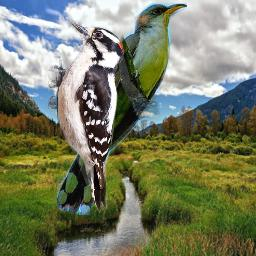Cuckoo: (57, 3, 187, 215)
Woodpecker: (48, 21, 125, 215)
